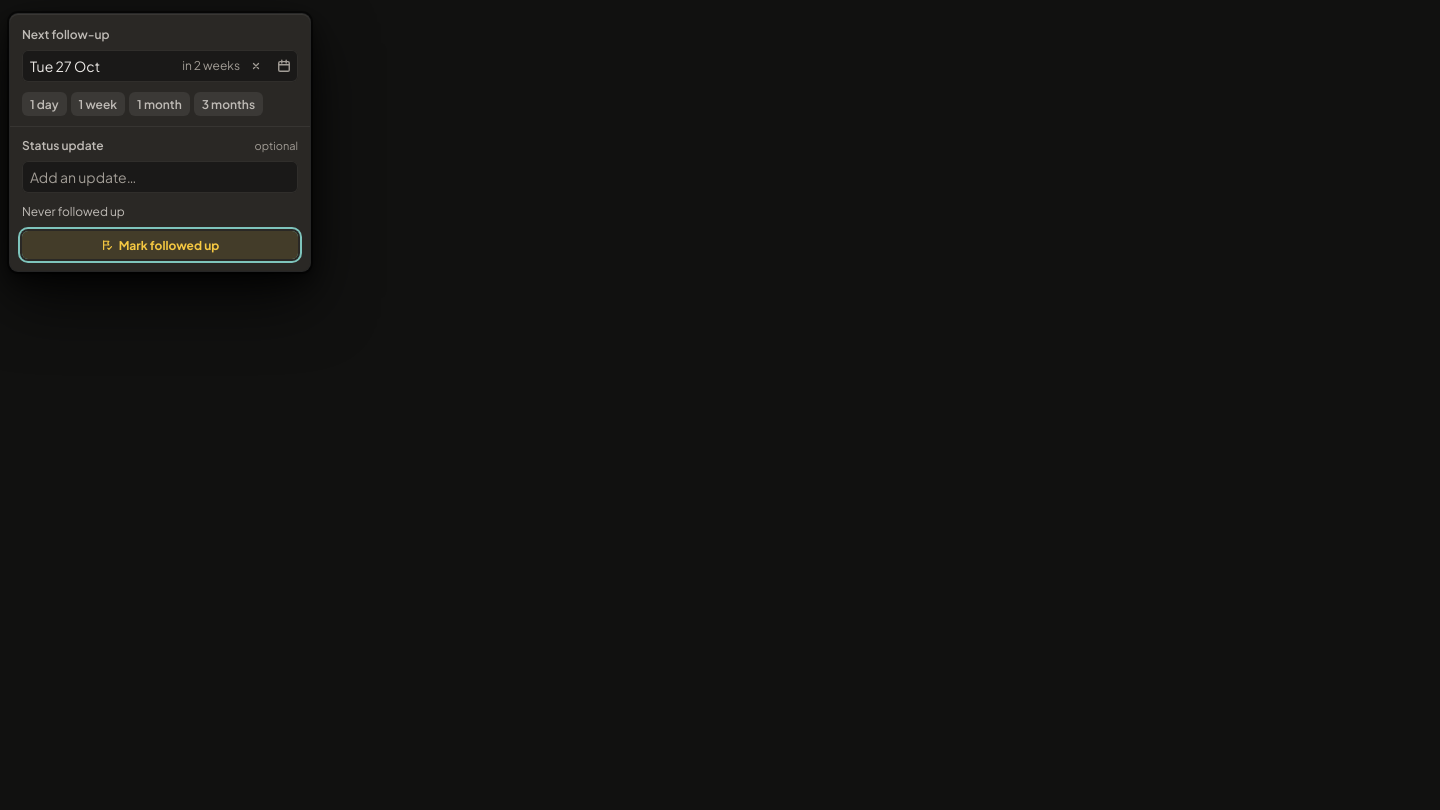
<FollowupPopover> Next field and Mark followed up › a date then Mark followed up: focus goes to the button, which marks with the date set
Replace the text in the field labelled "Next follow-up" with "2w". click: {"x": 104, "y": 66}
box: [30,57,178,75]
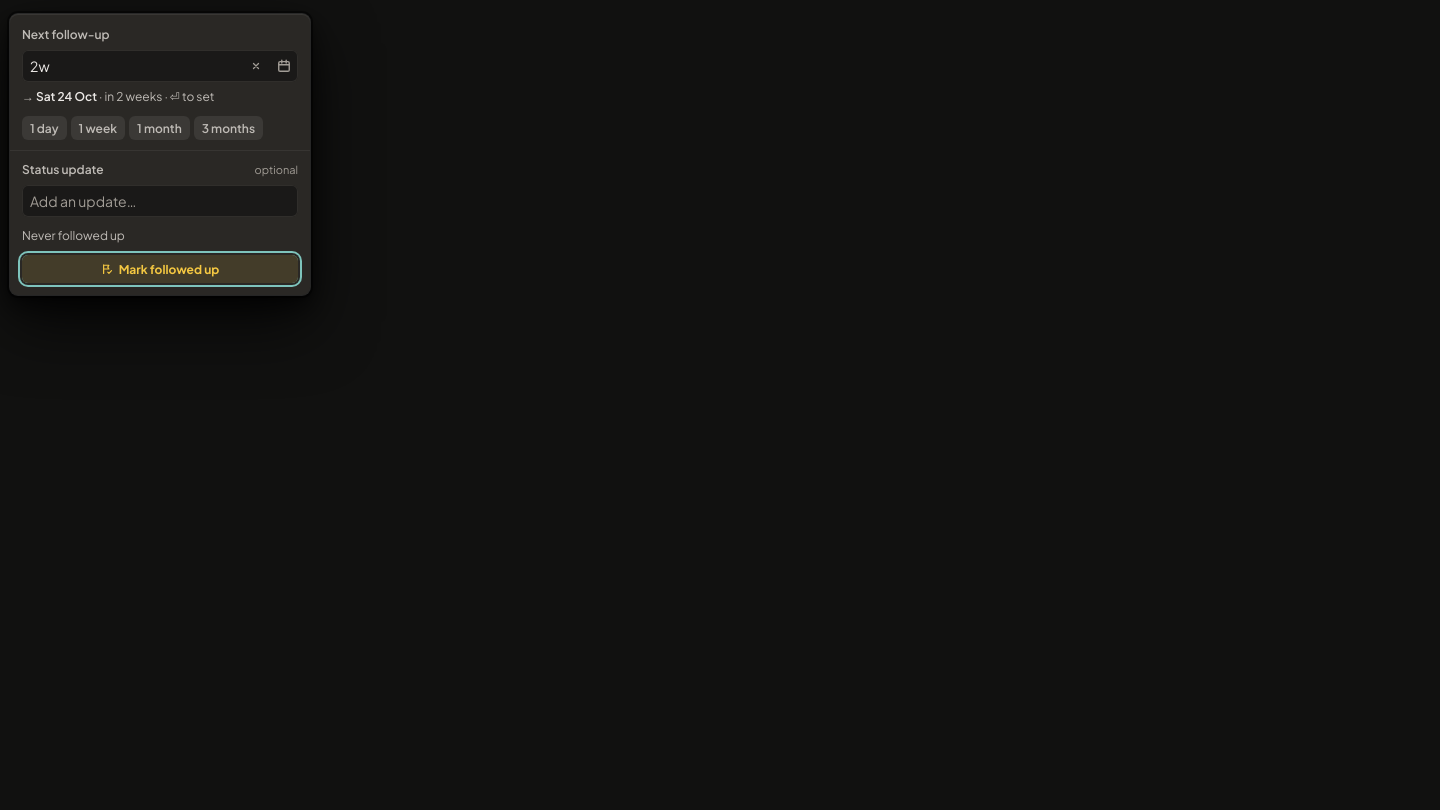
Press Enter in the field labelled "Next follow-up", box [30,57,240,75]
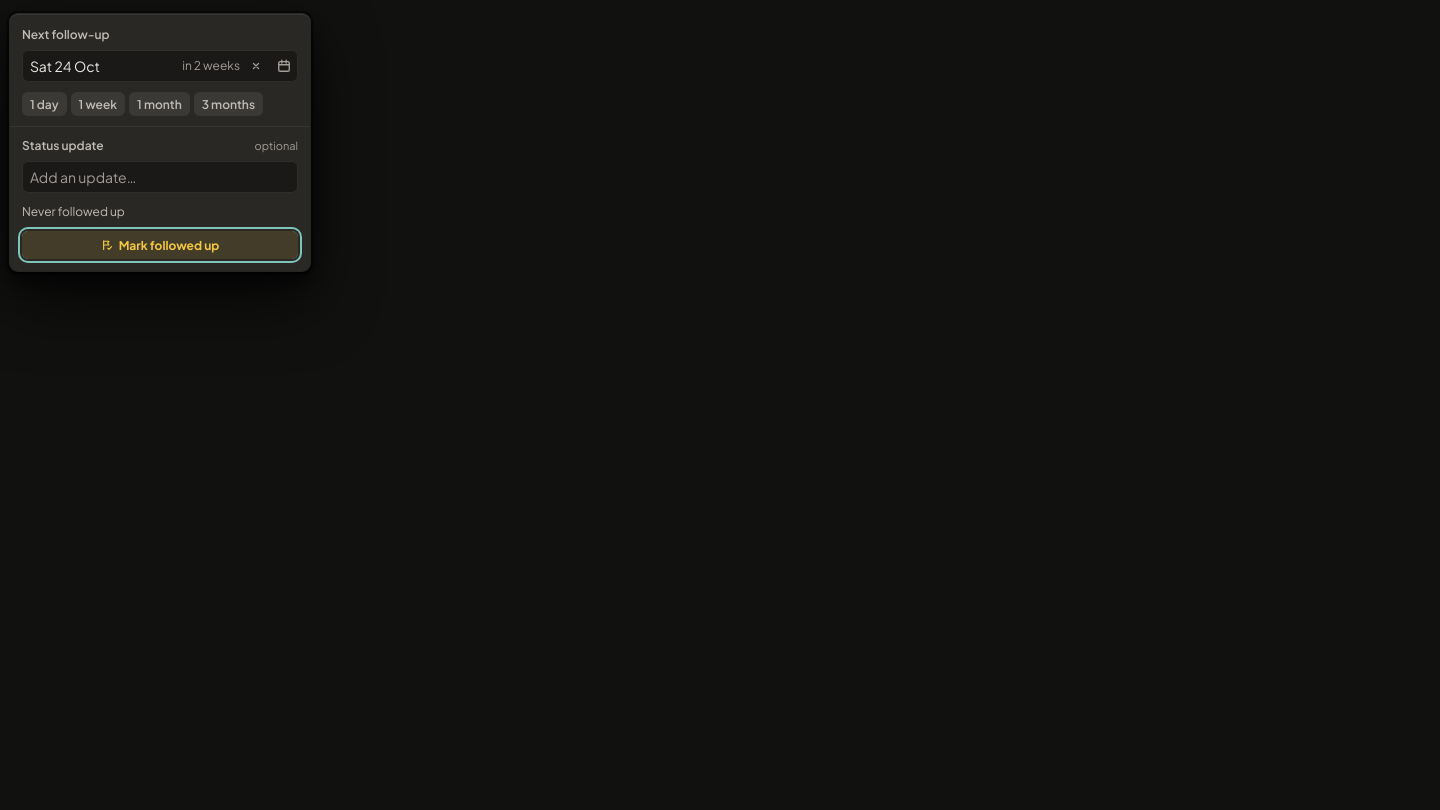
Now the field labelled "Next follow-up" holds "Sat 24 Oct", box [30,57,178,75]
Now the text "to set" is gone
Click the button "Mark followed up". click: {"x": 160, "y": 245}
box: [22,231,298,259]
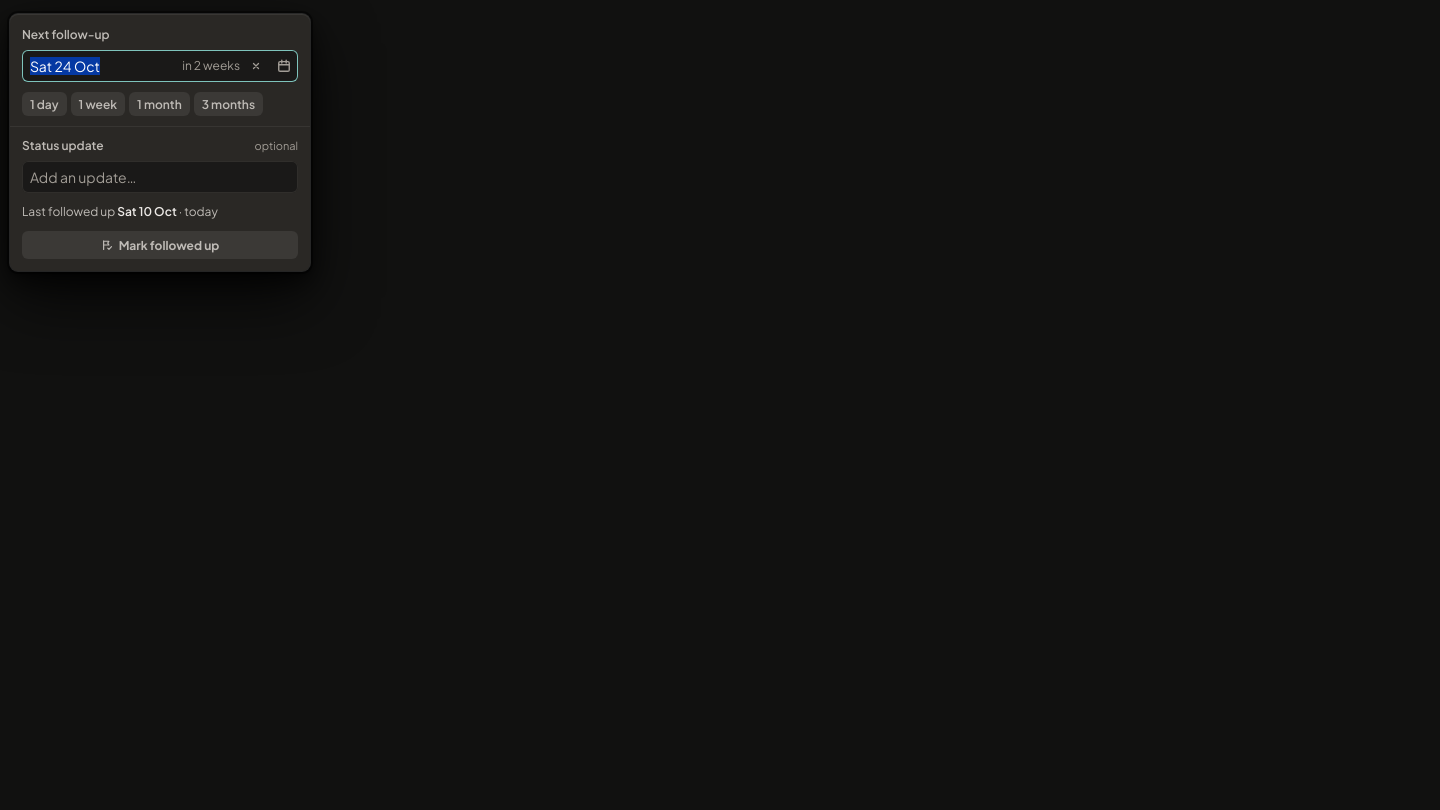
Now the field labelled "Next follow-up" holds "Sat 24 Oct", box [30,57,178,75]
Now the text "Last followed up Sat 10 Oct · today" is shown, box [22,204,218,219]
